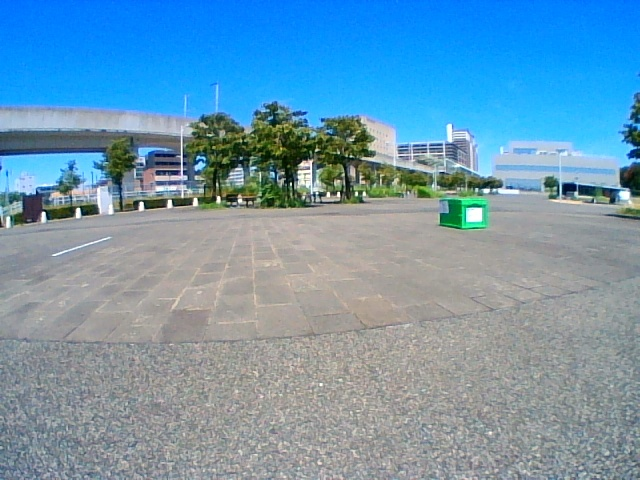green_box: (439, 198, 486, 229)
tag: (440, 201, 448, 213)
